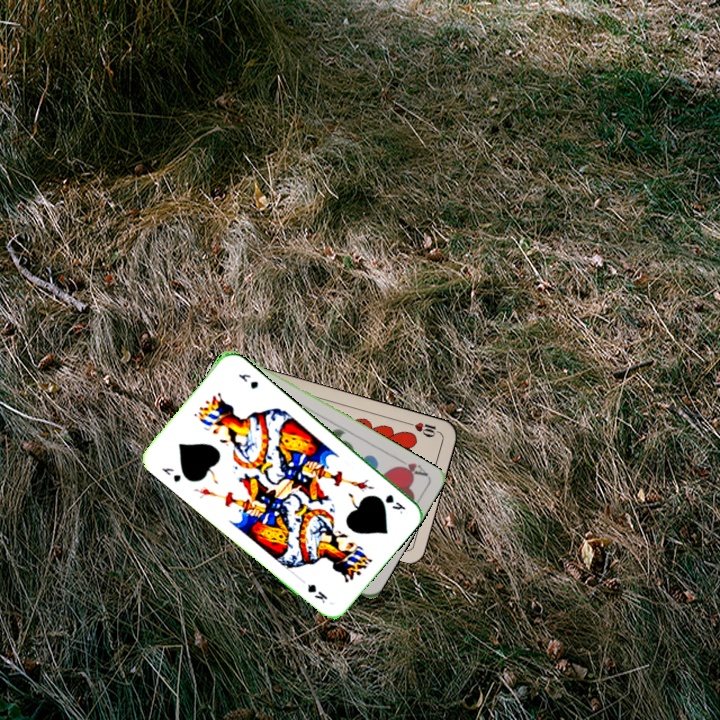GK: (381, 490, 408, 517), (157, 464, 184, 485)
H10: (402, 418, 442, 440)
HA: (391, 454, 431, 479)
